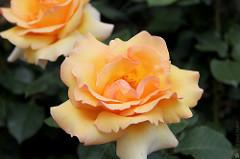Rose: (55, 35, 206, 154), (4, 1, 112, 60)
